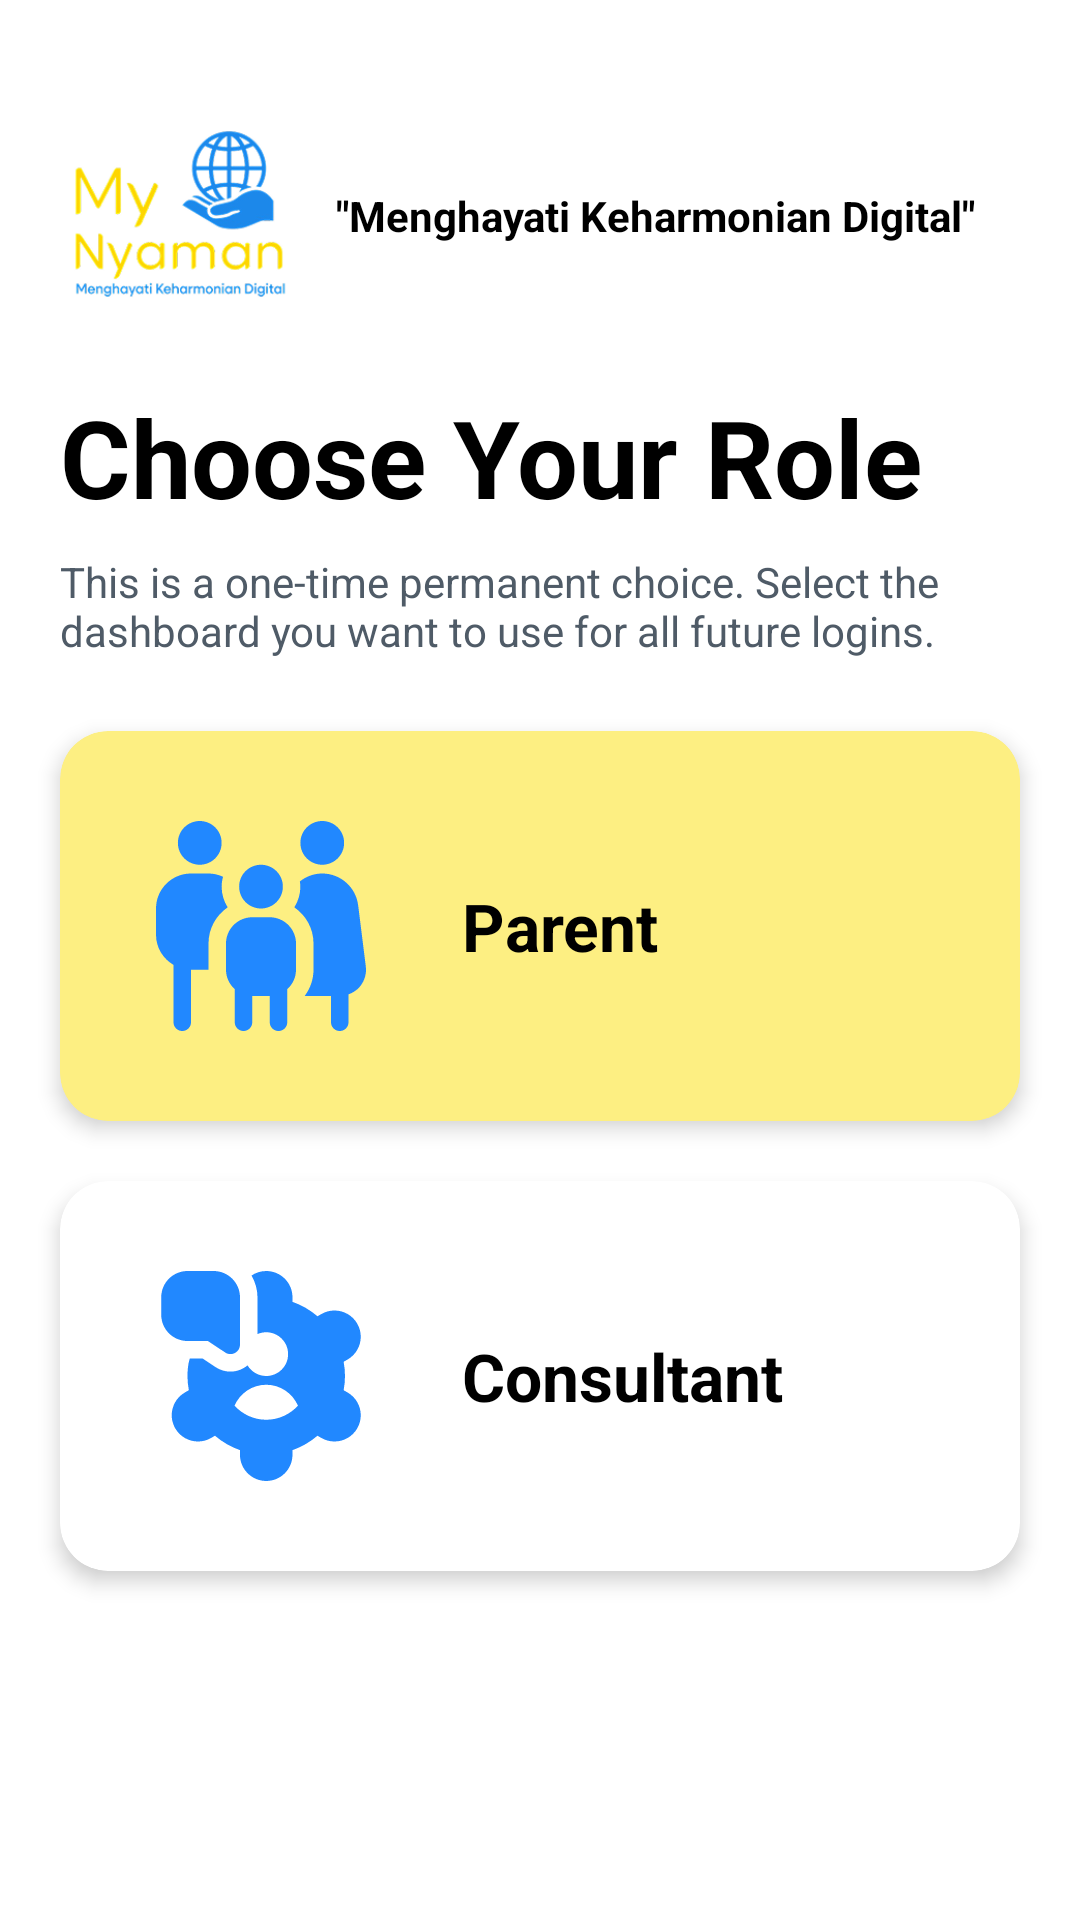

Named icons in this screenshot (1080*1920) and their centers, (x=x, y=y):
family: (x=261, y=926)
